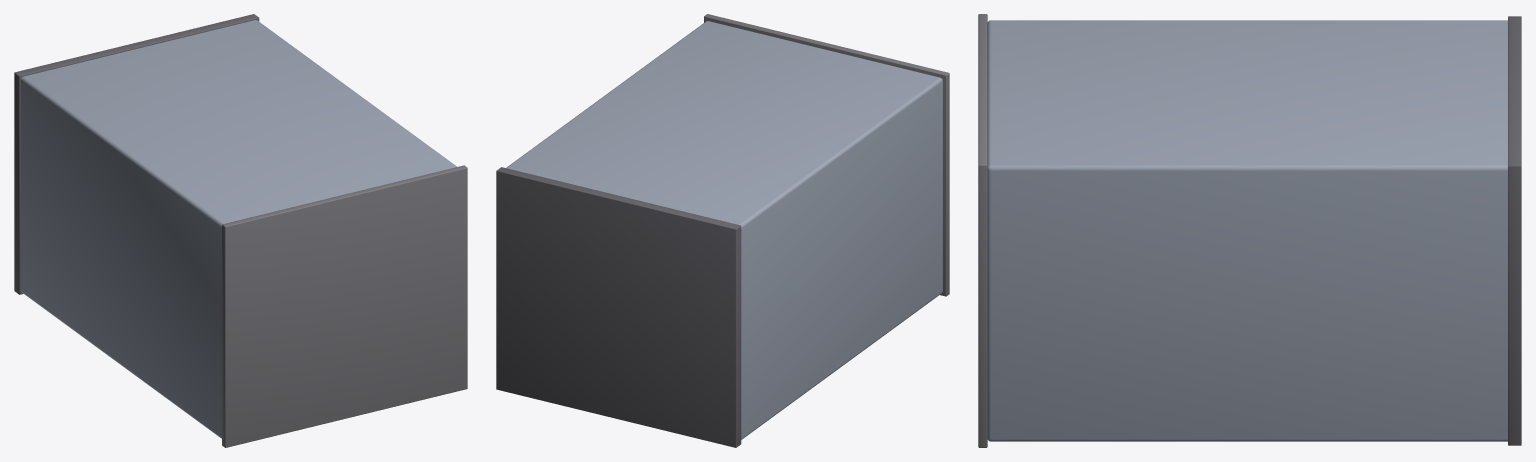
Rendered from mid_building_exterior.glb.
3 renders of one model, left to right at view 1: azimuth 30°, elevation 25°; view 2: azimuth 150°, elevation 25°; view 3: azimuth 270°, elevation 25°, orthographic. The views are drawn at different scales.
Visible parts, largest first — view 1: Body, Roof, BaseTrim; view 2: Body, BaseTrim, Roof; view 3: Body, BaseTrim, Roof.
Part boxes in pixels (left/top/right/bottom): Body: left=20, top=20, right=456, bottom=438; Roof: left=222, top=165, right=467, bottom=447; BaseTrim: left=14, top=14, right=259, bottom=294; Body: left=506, top=21, right=942, bottom=439; BaseTrim: left=496, top=167, right=741, bottom=447; Roof: left=704, top=14, right=949, bottom=296; Body: left=987, top=20, right=1507, bottom=441; BaseTrim: left=1508, top=16, right=1521, bottom=445; Roof: left=978, top=14, right=987, bottom=447.
Bounding box in the file's own units: 9.4 × 8.2 × 14.25.
